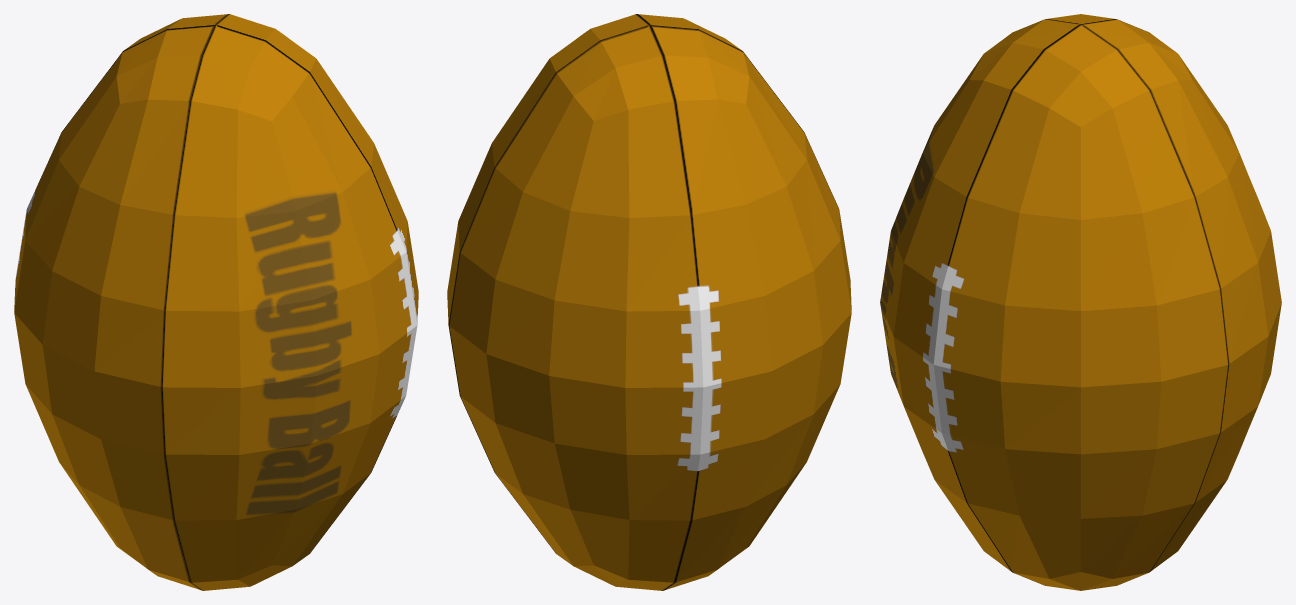
The model's file is RugbyBall.fbx.
3 views of the same model, side by side, from view 1: azimuth 30°, elevation 25°; view 2: azimuth 150°, elevation 25°; view 3: azimuth 270°, elevation 25° (orthographic).
Parts seen in each view (by area): view 1: Mesh; view 2: Mesh; view 3: Mesh.
Boxes of the visible parts, x1,y1,x2,y2 form: Mesh: [14, 14, 418, 590]; Mesh: [447, 14, 851, 590]; Mesh: [880, 14, 1281, 590].
Bounding box in the file's own units: 19 × 29 × 19.
Materials: 1 (1 with a texture image).
